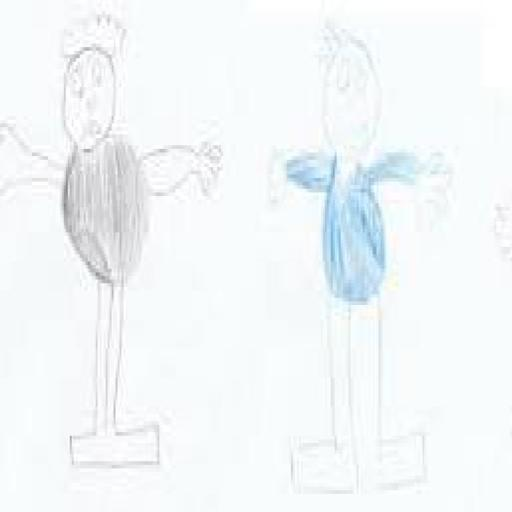person: (1, 6, 225, 474), (264, 12, 450, 504)
